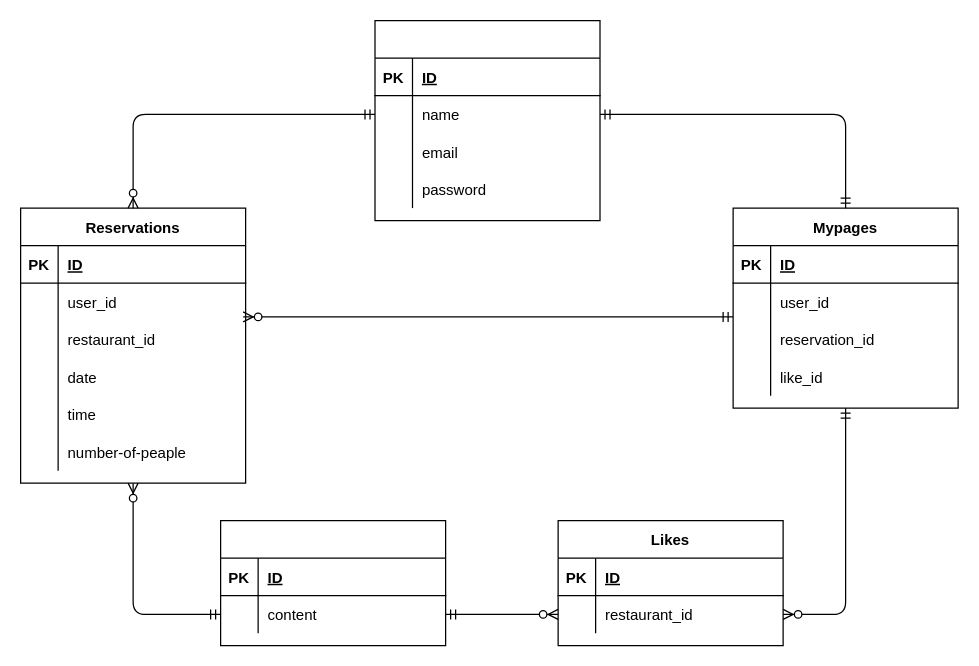
Image size: 979x666. Some labels were removed from this diagram. Each missing label, with the box of its shape:
Restaurants: (219, 519, 446, 646)
Users: (374, 19, 600, 221)
